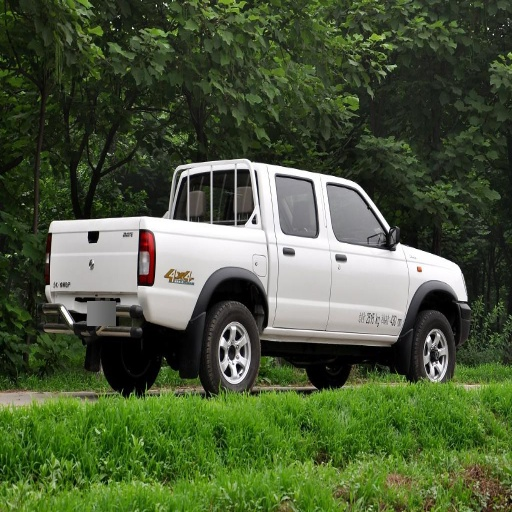back_right_door: (269, 170, 331, 329)
trunk: (135, 222, 273, 334), (67, 224, 139, 283)
